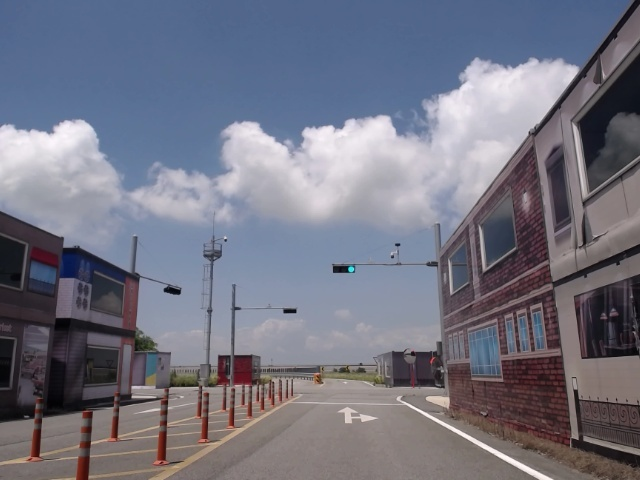green_3: (333, 266, 354, 273)
